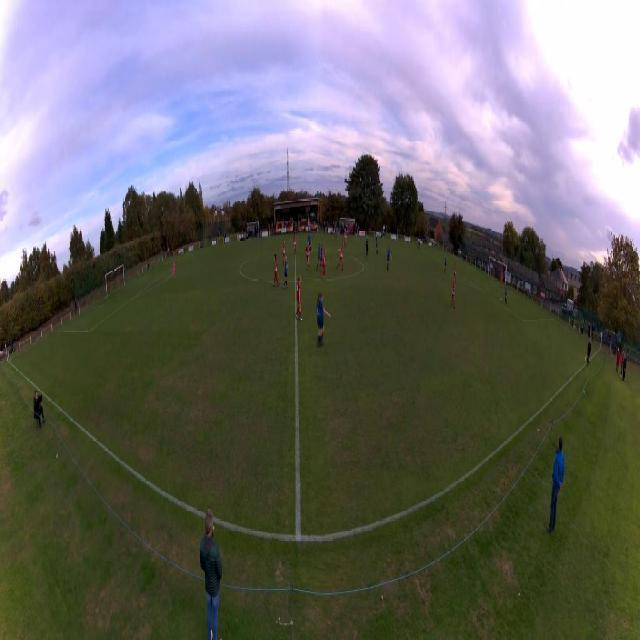ball: (501, 298, 502, 302)
player: (315, 289, 331, 350), (295, 275, 303, 322), (272, 253, 279, 288), (316, 241, 323, 271), (283, 256, 289, 290), (337, 242, 344, 271), (306, 244, 311, 271), (387, 246, 392, 272), (451, 279, 455, 309), (322, 250, 326, 279), (308, 233, 312, 254), (293, 234, 297, 254), (283, 241, 286, 267), (344, 227, 348, 246), (366, 236, 369, 257), (173, 261, 176, 281), (333, 224, 337, 239), (444, 254, 447, 273), (376, 236, 379, 255), (500, 272, 503, 289), (505, 283, 507, 304), (454, 263, 456, 280), (418, 240, 420, 249)
